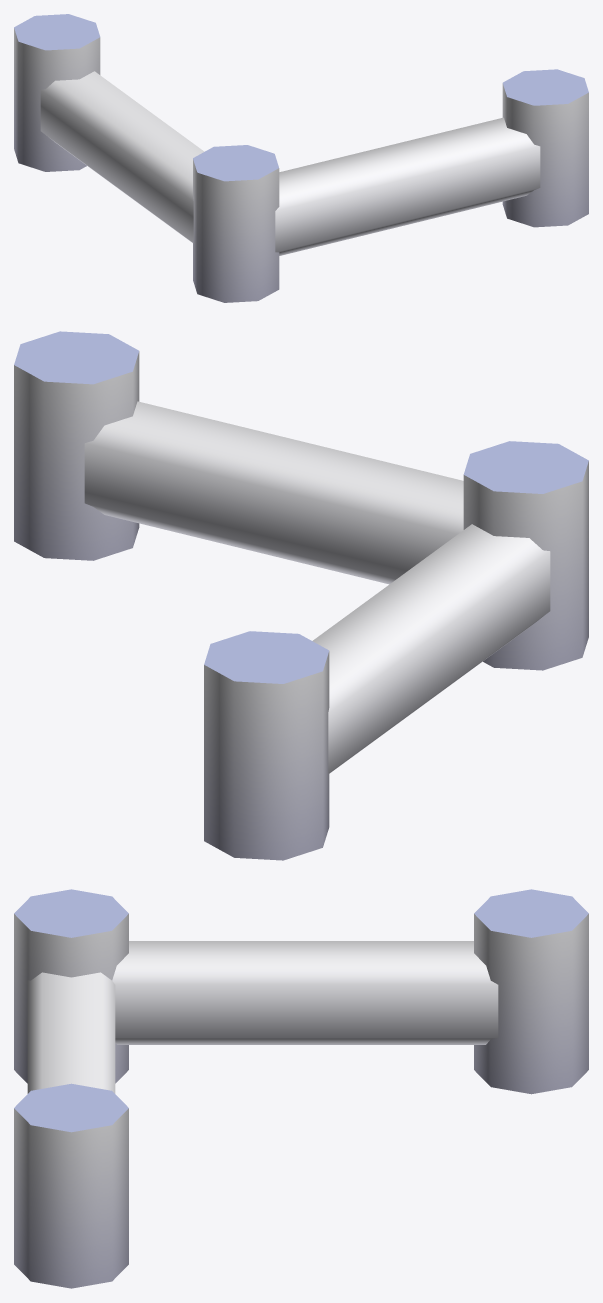
File: fence-low-corner.glb
The picture shows the model from 3 angles, top to bottom: view 1: azimuth 30°, elevation 25°; view 2: azimuth 150°, elevation 25°; view 3: azimuth 270°, elevation 25°; orthographic projection. The views are drawn at different scales.
Visible parts, largest first — view 1: fence-low-corner; view 2: fence-low-corner; view 3: fence-low-corner.
Part boxes in pixels (box(x1,y1,x2,y2)): fence-low-corner: box(14, 14, 588, 302); fence-low-corner: box(14, 331, 588, 860); fence-low-corner: box(14, 889, 588, 1288).
Bounding box in the file's own units: 1 × 0.3 × 1.
